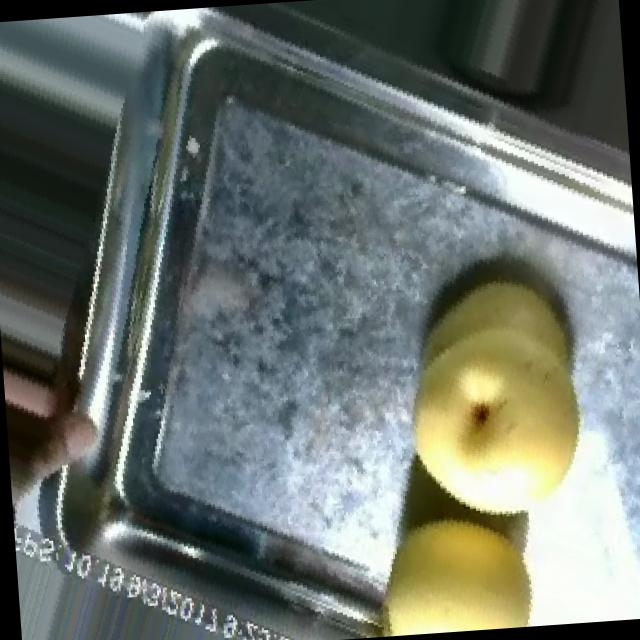Fruit: (376, 238, 626, 541), (355, 496, 556, 638)
